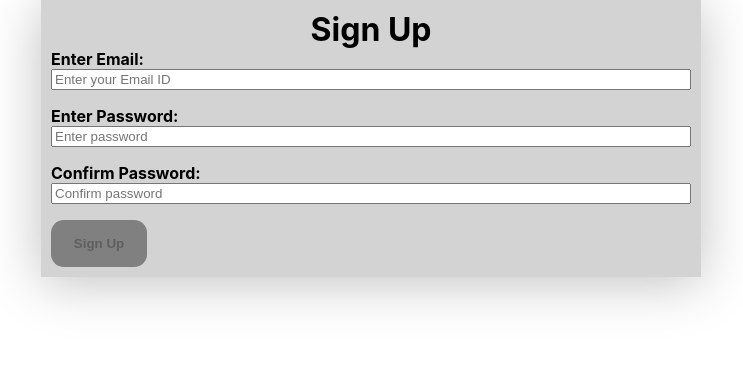
Test: Email Component should be › input should contain @ and . keywords
In the field with test id "email-field": (371, 80) 51,69 -> 691,90, type "test"
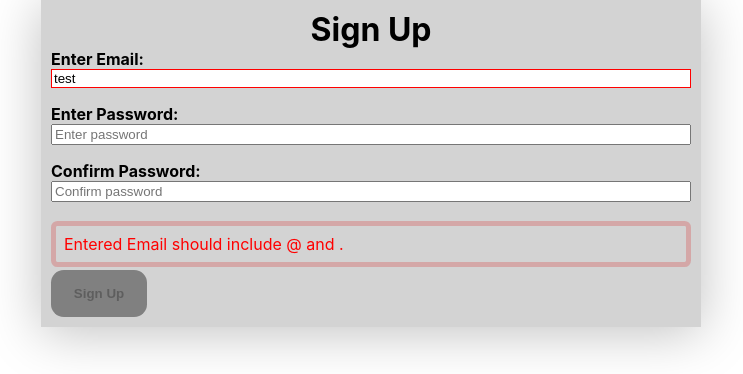
Expected: the button with test id "login-form" is disabled, 51,270 -> 147,317
Expected: the text with test id "email-error-field" reads "Entered Email should include @ and .", 64,234 -> 344,254
